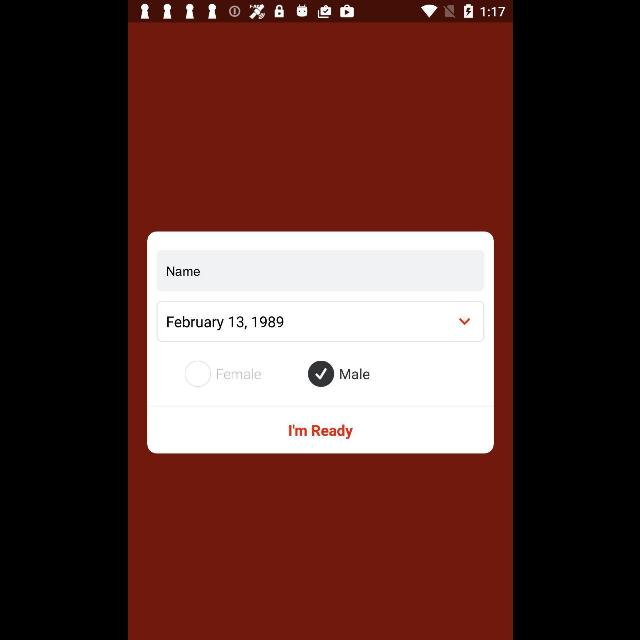checkbox: (183, 360, 210, 388), (306, 361, 334, 387)
input: (156, 250, 484, 292)
panel: (147, 231, 493, 453)
text: (216, 368, 260, 380), (339, 368, 369, 380), (167, 266, 200, 276)
textbutton: (147, 406, 493, 454), (156, 300, 484, 342)
uppertaskbar: (128, 1, 512, 23)
